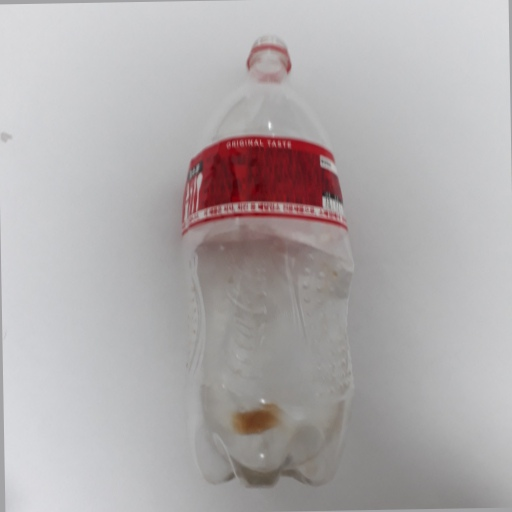Plastic_0: (181, 34, 361, 494)
